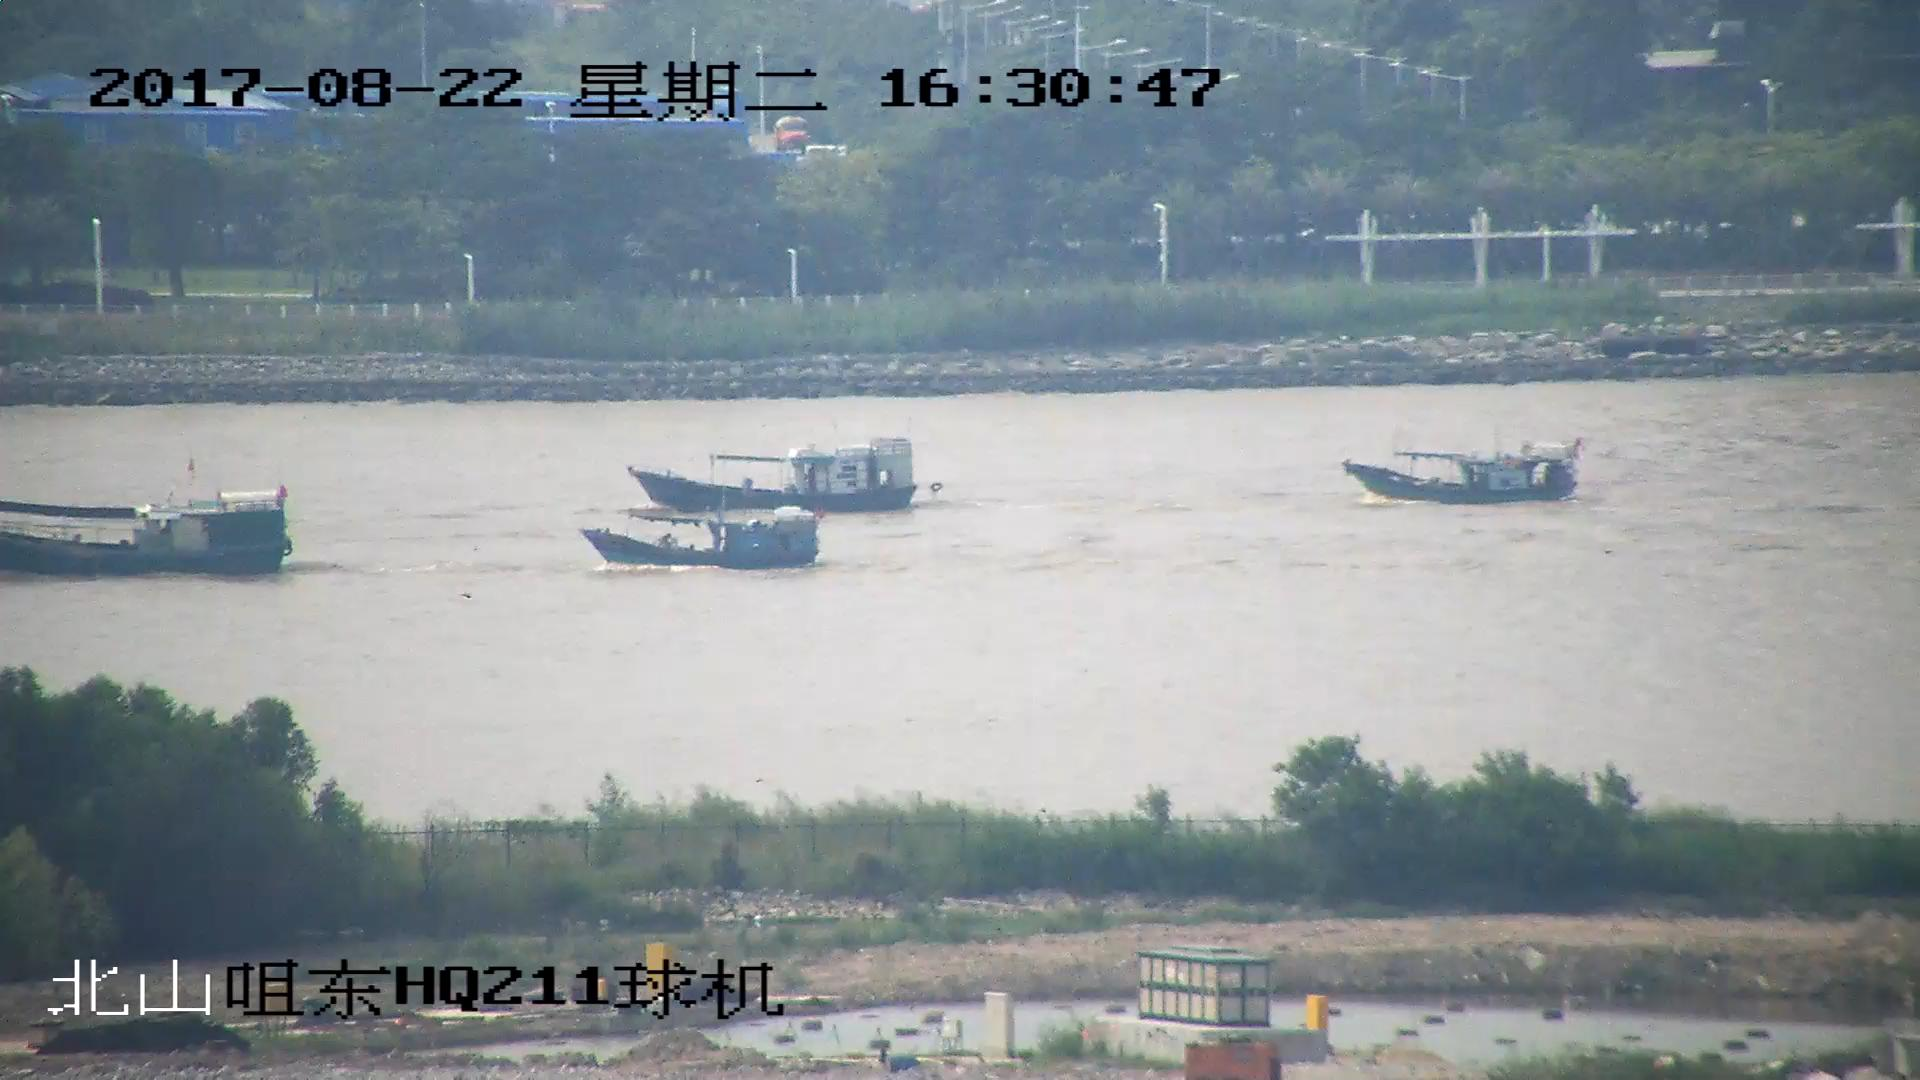fishing boat: (1, 466, 297, 578), (633, 435, 918, 512), (1350, 441, 1582, 505), (582, 505, 818, 567)
